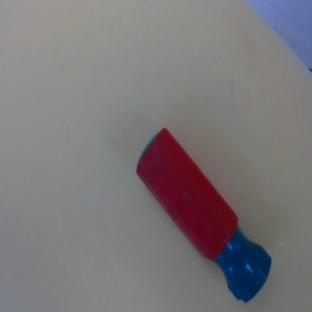part_2_good: (124, 127, 283, 305)
